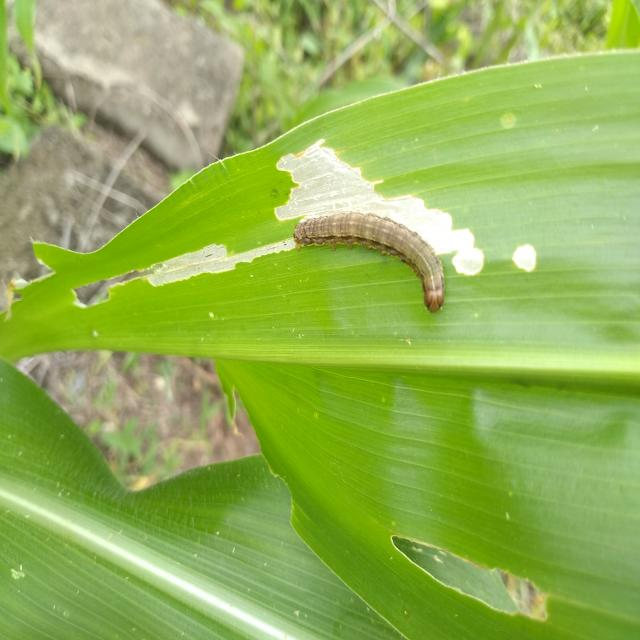yellow-stem-borer-larva: (274, 181, 464, 315)
